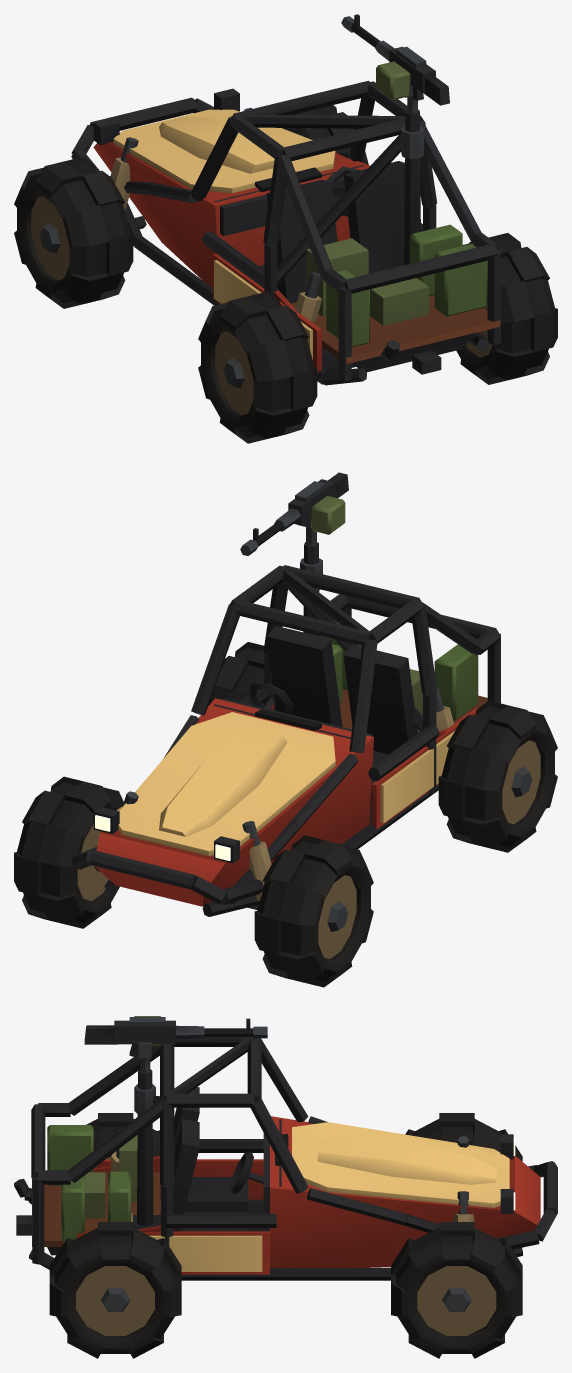
The model's file is scout_buggy_v2.glb.
The picture shows the model from 3 angles, top to bottom: view 1: azimuth 30°, elevation 25°; view 2: azimuth 150°, elevation 25°; view 3: azimuth 270°, elevation 25°; orthographic projection. The views are drawn at different scales.
Parts seen in each view (by area): view 1: Body, Wheel_RL, Wheel_FL, Wheel_RR, Gun, Wheel_FR; view 2: Body, Wheel_RL, Wheel_FL, Wheel_FR, Gun, Wheel_RR; view 3: Body, Wheel_RR, Wheel_FR, Gun, Wheel_FL, Wheel_RL.
Boxes of the visible parts, bbox=[...] form: Body: bbox=[71, 80, 500, 385]; Wheel_RL: bbox=[198, 291, 317, 443]; Wheel_FL: bbox=[14, 157, 133, 308]; Wheel_RR: bbox=[456, 233, 557, 384]; Gun: bbox=[341, 14, 449, 113]; Wheel_FR: bbox=[282, 105, 368, 164]; Body: bbox=[71, 542, 500, 916]; Wheel_RL: bbox=[438, 700, 557, 852]; Wheel_FL: bbox=[254, 835, 373, 987]; Wheel_FR: bbox=[14, 776, 123, 928]; Gun: bbox=[240, 472, 348, 555]; Wheel_RR: bbox=[208, 642, 264, 706]; Body: bbox=[14, 1036, 557, 1280]; Wheel_RR: bbox=[49, 1222, 181, 1358]; Wheel_FR: bbox=[391, 1222, 522, 1358]; Gun: bbox=[84, 1016, 267, 1073]; Wheel_FL: bbox=[405, 1113, 522, 1161]; Wheel_RL: bbox=[86, 1113, 159, 1159].
Bounding box in the file's own units: 0.6125 × 0.6277 × 1.03.
